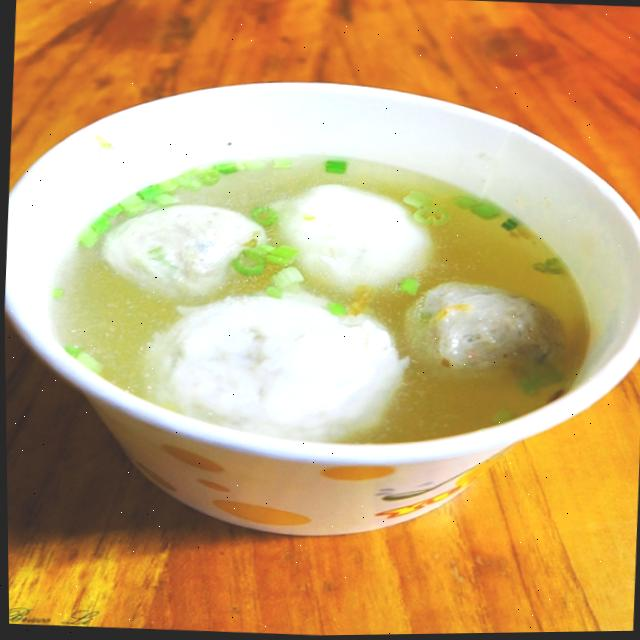熟制海鲜: (17, 46, 632, 557)
